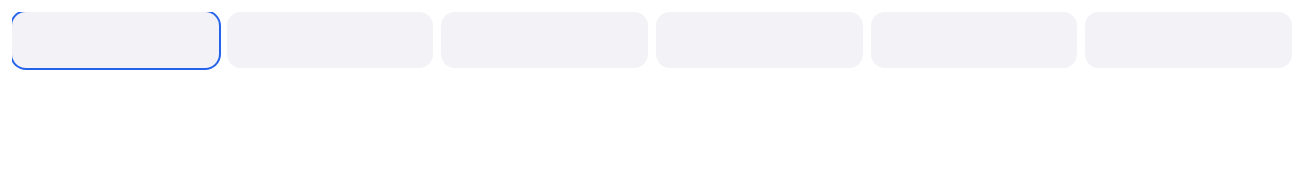
it: typing the code › stops at six digits
Type "48291377" into the field named "Verification Code".
click(652, 40); type("48291377")  # box [12,12,1292,68]
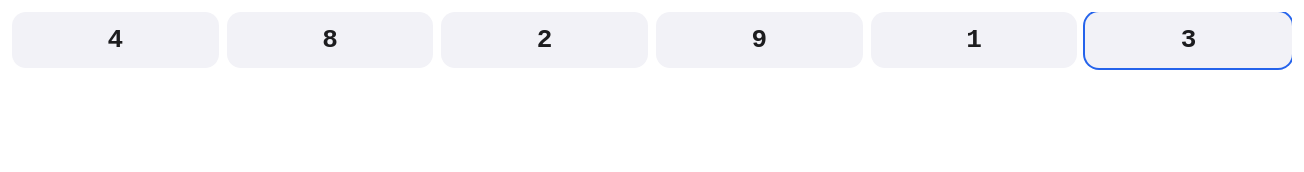
Now the field named "Verification Code" holds "482913", box [12,12,1292,68]
